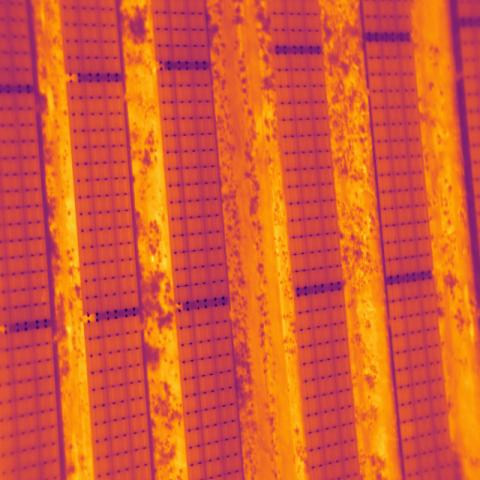fault: (400, 421, 418, 442)
